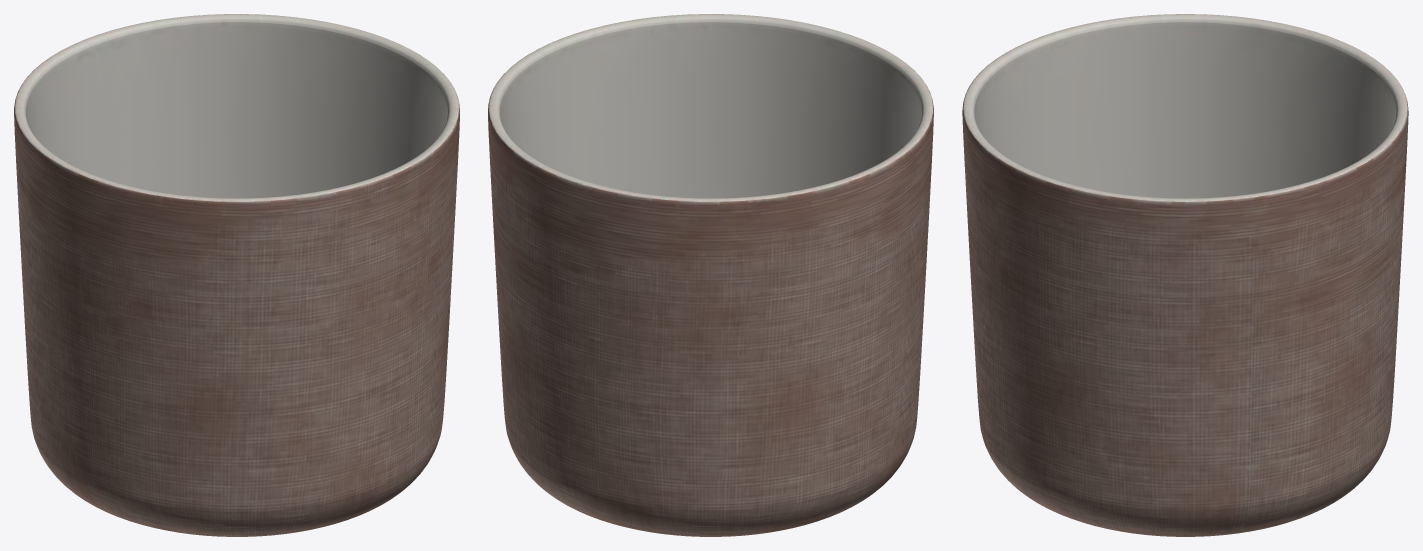
The model's file is abo-B07QFB5H6Y.glb.
3 views of the same model, side by side, from view 1: azimuth 30°, elevation 25°; view 2: azimuth 150°, elevation 25°; view 3: azimuth 270°, elevation 25° (orthographic).
Size of the model in its own units: 0.44 by 0.398 by 0.44.
Materials: 1 (1 with a texture image).
